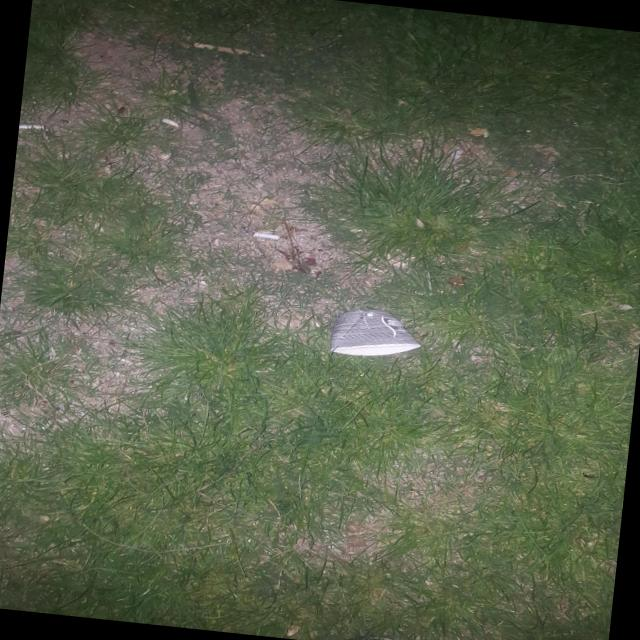less trash: (329, 310, 420, 356)
